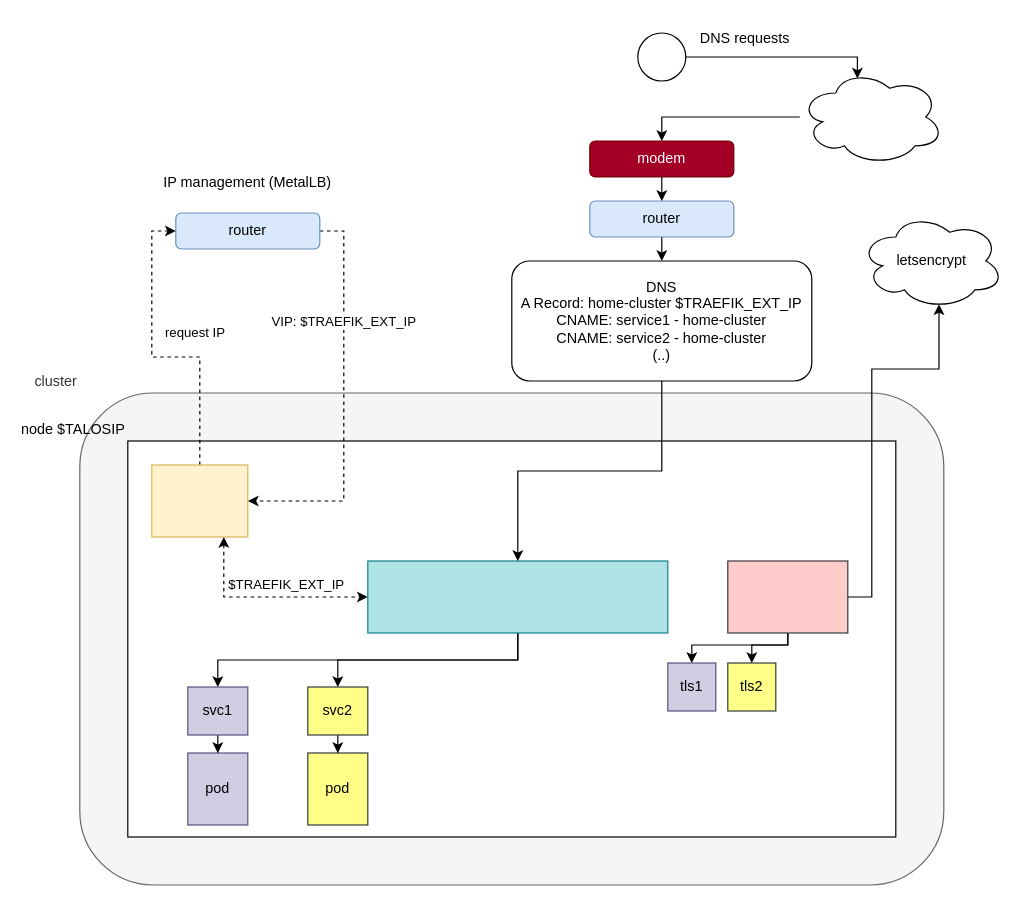
This 1025x906 diagram has some shape labels left out. The centre of each missing label's shape, as x and y in pixels:
cert-manager: the point at 787,596
FQDN registrar (No-IP ?): the point at 871,116
ingress-nginx: the point at 517,596
MetalLB: the point at 199,500
